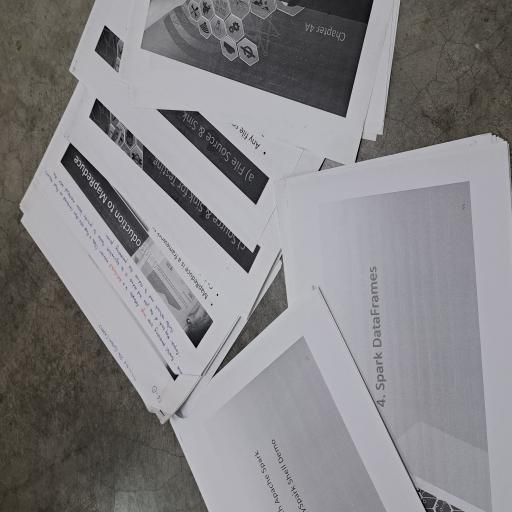paper: (0, 24, 384, 512)
